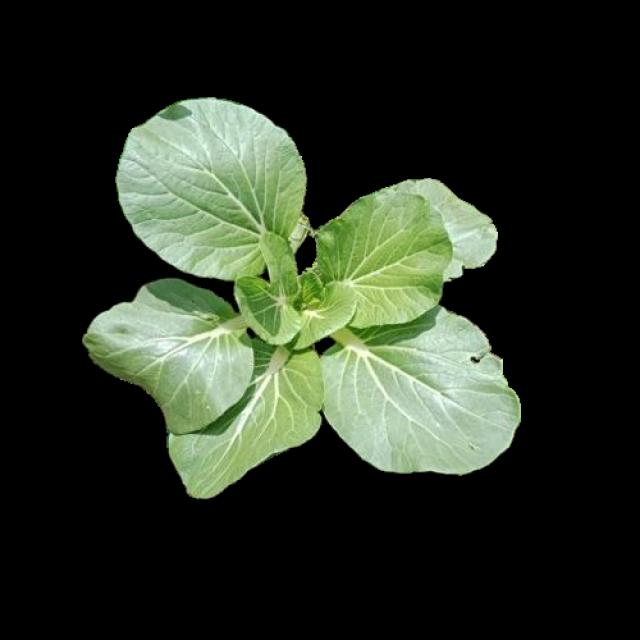healthy: (95, 119, 509, 489)
not-mature: (89, 98, 518, 507)
